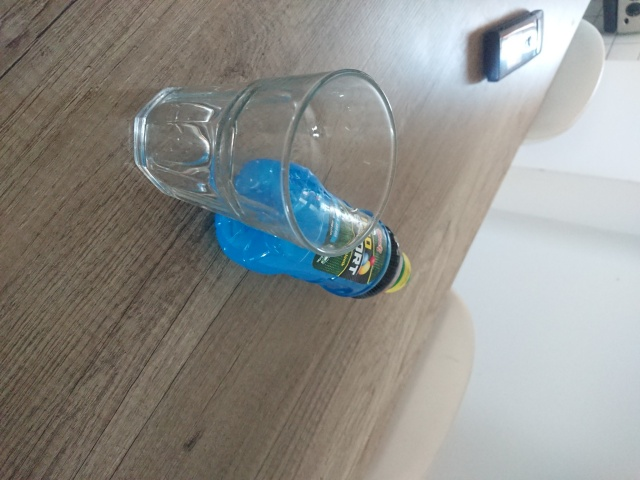Vindi Iso Sport Forest Strawberries 500mL: (211, 155, 415, 301)
